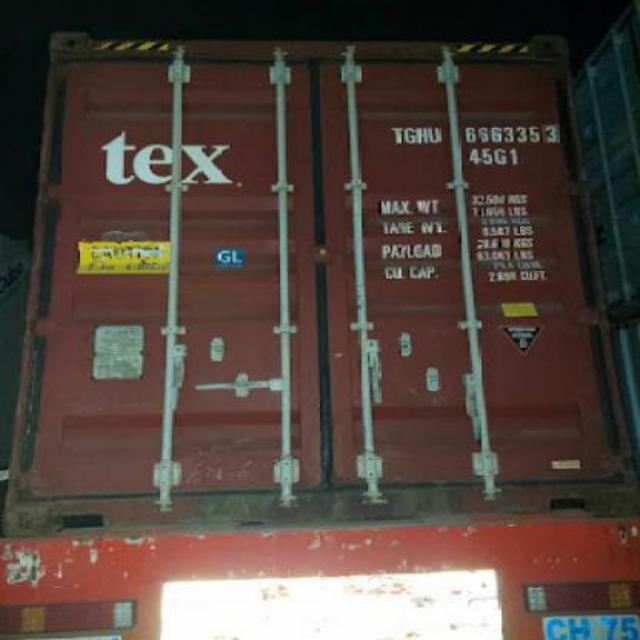3: (502, 124, 518, 144), (516, 124, 530, 146), (546, 122, 556, 142)
5: (530, 124, 540, 144)
6: (464, 124, 476, 142), (478, 124, 490, 142), (490, 126, 502, 144)
G: (402, 124, 418, 146)
H: (416, 124, 429, 146)
T: (386, 124, 404, 146)
U: (431, 124, 444, 144)
